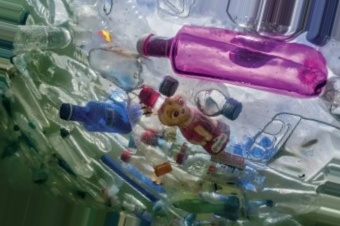plastic: (132, 22, 337, 93)
